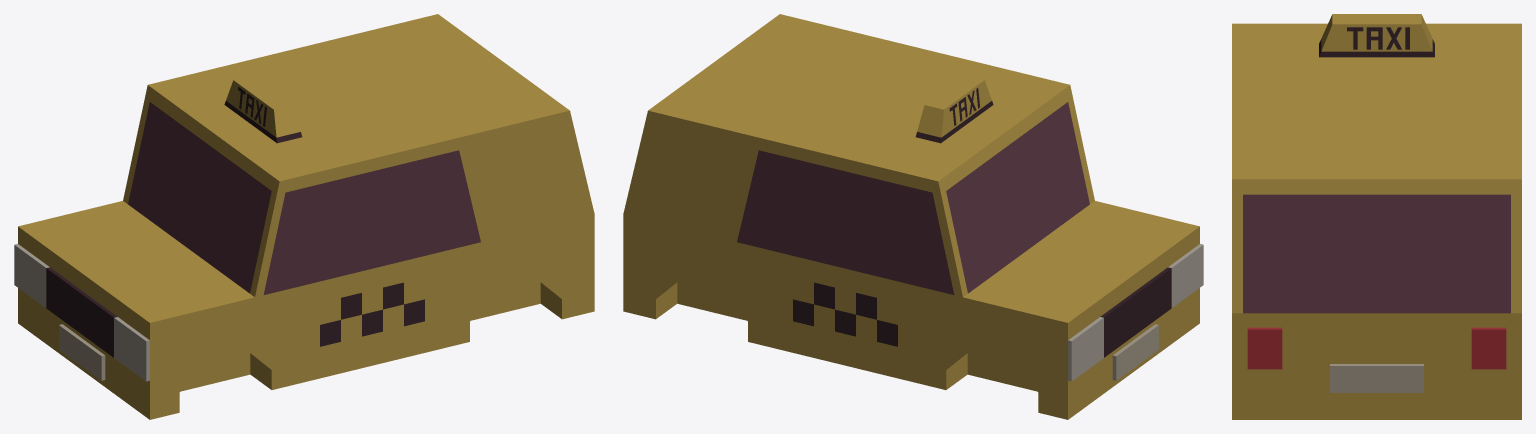
The model's file is Suv_Taxi.fbx.
The picture shows the model from 3 angles, left to right: view 1: azimuth 30°, elevation 25°; view 2: azimuth 150°, elevation 25°; view 3: azimuth 270°, elevation 25°; orthographic projection. The views are drawn at different scales.
Visible parts, largest first — view 1: Suv_Taxi, Suv_TaxiLights; view 2: Suv_Taxi, Suv_TaxiLights; view 3: Suv_Taxi, Suv_TaxiLights.
Part boxes in pixels (x1,y1,x2,y2): Suv_Taxi: [18, 14, 594, 419]; Suv_TaxiLights: [14, 244, 149, 381]; Suv_Taxi: [623, 14, 1199, 419]; Suv_TaxiLights: [1068, 244, 1203, 381]; Suv_Taxi: [1232, 14, 1521, 419]; Suv_TaxiLights: [1247, 327, 1506, 369].
Bounding box in the file's own units: 3.66 × 1.82 × 1.85.
